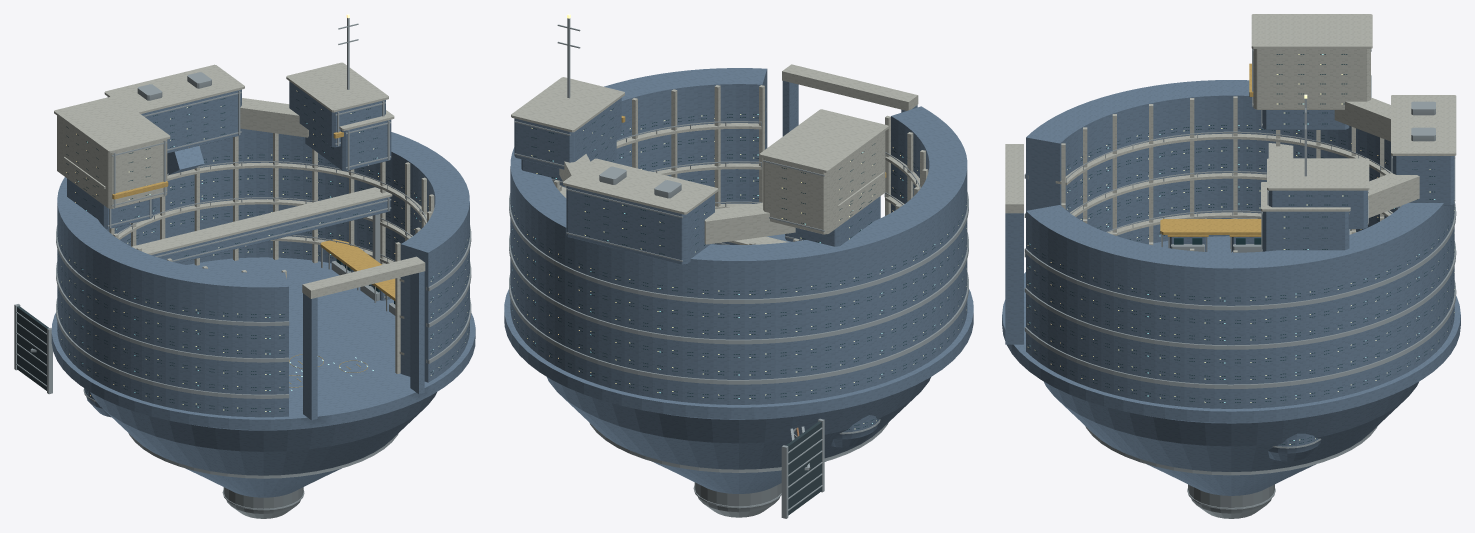
The model's file is haven.glb.
The picture shows the model from 3 angles, left to right: view 1: azimuth 30°, elevation 25°; view 2: azimuth 150°, elevation 25°; view 3: azimuth 270°, elevation 25°; orthographic projection. The views are drawn at different scales.
Visible parts, largest first — view 1: haven / hull, haven / armor, haven / metal, haven / glass, haven / ochre, haven / radiator; view 2: haven / hull, haven / armor, haven / metal, haven / glass, haven / radiator; view 3: haven / hull, haven / armor, haven / metal, haven / glass, haven / ochre.
Part boxes in pixels (<box>): haven / hull: <box>51,81,475,497</box>; haven / armor: <box>54,62,434,373</box>; haven / metal: <box>14,18,471,518</box>; haven / glass: <box>57,92,469,411</box>; haven / ochre: <box>112,131,395,387</box>; haven / radiator: <box>17,306,48,390</box>; haven / hull: <box>504,68,973,493</box>; haven / armor: <box>511,64,928,244</box>; haven / metal: <box>509,18,968,518</box>; haven / glass: <box>510,108,967,429</box>; haven / radiator: <box>786,421,821,515</box>; haven / hull: <box>1002,80,1460,495</box>; haven / armor: <box>1005,14,1456,252</box>; haven / metal: <box>1024,48,1456,518</box>; haven / glass: <box>1027,54,1454,444</box>; haven / ochre: <box>1160,63,1261,236</box>.
Bounding box in the file's own units: 139 × 160 × 139.
10 materials, 4 textured.
